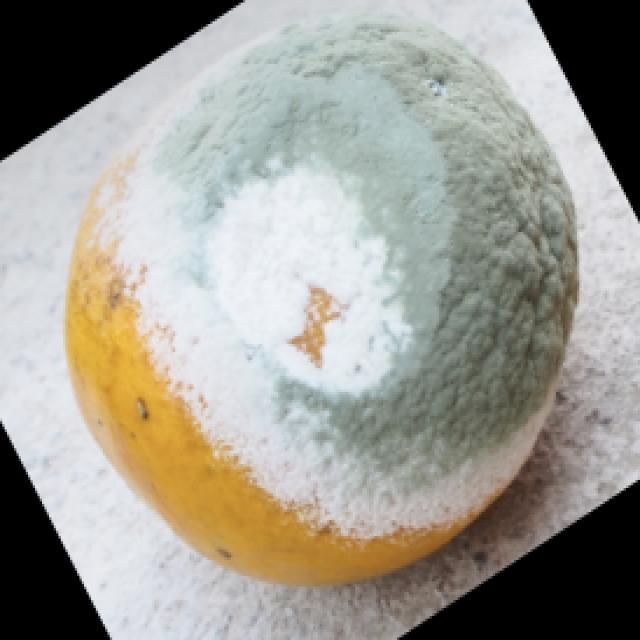sangat-busuk: (66, 14, 576, 582), (95, 7, 578, 534)
